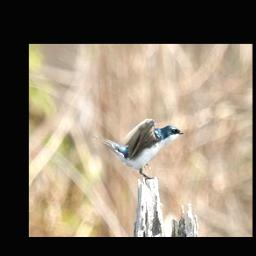Swallow: (93, 116, 184, 180)
